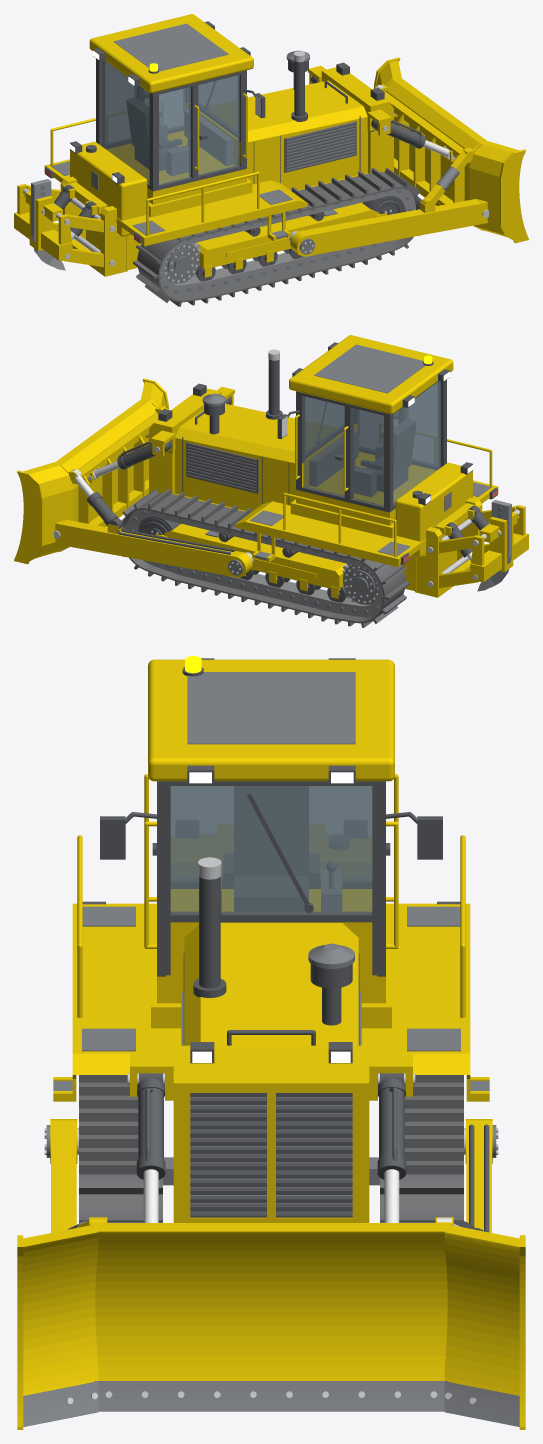
File: Crawler_Dozer_20t.glb
3 renders of one model, top to bottom at view 1: azimuth 30°, elevation 25°; view 2: azimuth 150°, elevation 25°; view 3: azimuth 270°, elevation 25°, orthographic. The views are drawn at different scales.
Parts seen in each view (by area): view 1: blade, cab_glass, hood, push_arm_2, cab_roof, cab_frame, track_shoes_R, track_links_R, fender_2, track_frame_R, fuel_tank, roof_panel (+25 smaller); view 2: blade, cab_glass, hood, cab_roof, cab_frame, push_arm, track_shoes_L, track_links_L, fender, track_frame_L, fuel_tank, roof_panel (+27 smaller); view 3: blade, cab_glass, cab_roof, hood, radiator_guard, roof_panel, grille_backing, fender, fender_2, grille_bars, cutting_edge, seat (+24 smaller).
Boxes of the visible parts, x1,y1,x2,y2 form: blade: [374, 57, 528, 243]; cab_glass: [102, 60, 239, 184]; hood: [247, 80, 367, 190]; push_arm_2: [290, 199, 488, 256]; cab_roof: [89, 14, 253, 93]; cab_frame: [96, 58, 246, 191]; track_shoes_R: [137, 172, 420, 302]; track_links_R: [160, 189, 415, 296]; fender_2: [116, 180, 308, 246]; track_frame_R: [196, 202, 378, 277]; fuel_tank: [70, 141, 147, 236]; roof_panel: [113, 23, 228, 71]; blade: [14, 378, 168, 564]; cab_glass: [303, 381, 440, 505]; hood: [175, 403, 295, 511]; cab_roof: [289, 335, 453, 414]; cab_frame: [296, 379, 446, 512]; push_arm: [54, 520, 252, 577]; track_shoes_L: [122, 493, 405, 623]; track_links_L: [127, 510, 382, 617]; fender: [234, 501, 426, 567]; track_frame_L: [164, 523, 346, 598]; fuel_tank: [395, 462, 472, 557]; roof_panel: [314, 344, 425, 393]; blade: [17, 1223, 525, 1429]; cab_glass: [170, 786, 372, 912]; cab_roof: [148, 659, 394, 781]; hood: [184, 923, 358, 1045]; radiator_guard: [173, 1045, 369, 1222]; roof_panel: [187, 672, 355, 744]; grille_backing: [190, 1093, 352, 1217]; fender: [361, 903, 470, 1078]; fender_2: [72, 903, 181, 1078]; grille_bars: [190, 1097, 352, 1215]; cutting_edge: [94, 1381, 448, 1411]; seat: [223, 786, 319, 911].
Bounding box in the file's own units: 6.64 × 3.28 × 3.38.
